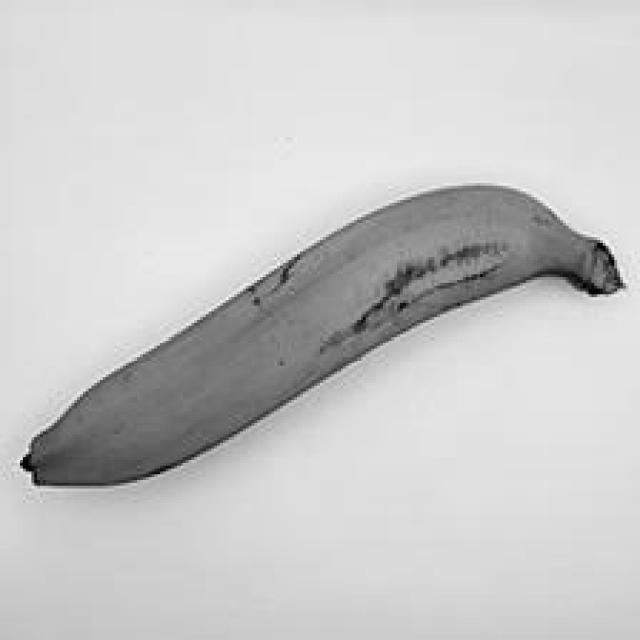Raw: (13, 148, 636, 514)
